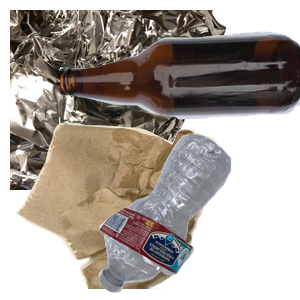glass: (60, 29, 300, 141)
metal: (10, 10, 229, 190)
plastic: (96, 131, 300, 300)
trash: (14, 120, 222, 300)
